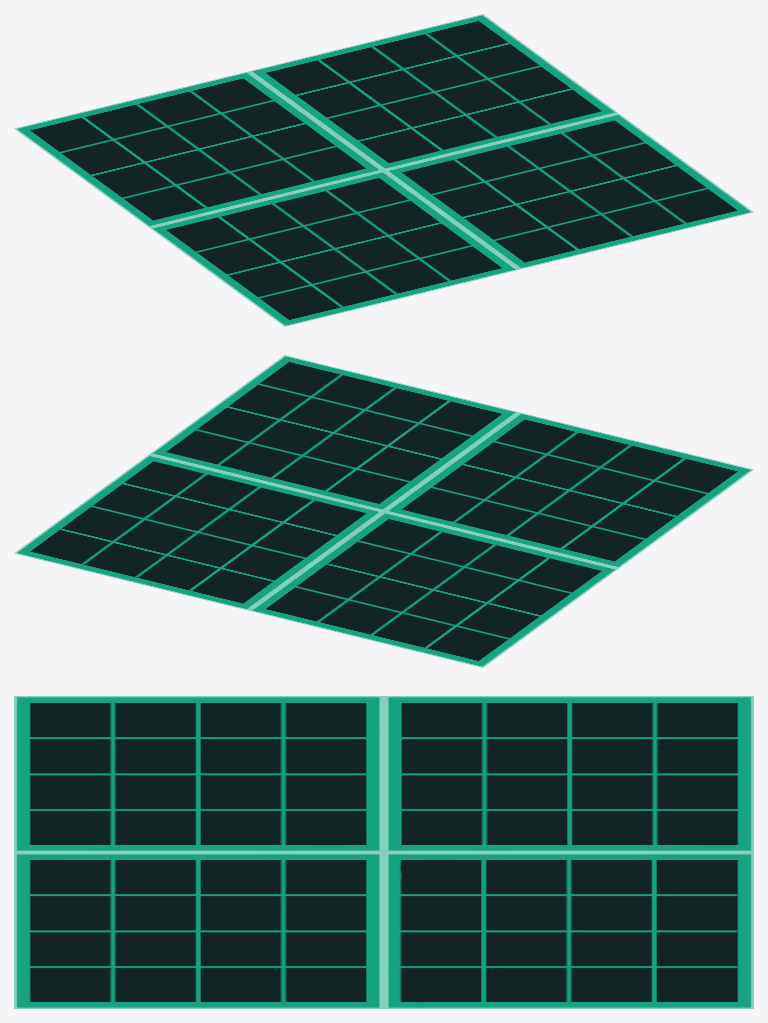
File: floor.obj
3 renders of one model, top to bottom at view 1: azimuth 30°, elevation 25°; view 2: azimuth 150°, elevation 25°; view 3: azimuth 270°, elevation 25°, orthographic. The views are drawn at different scales.
Visible parts, largest first — view 1: Plane; view 2: Plane; view 3: Plane.
Part boxes in pixels (x1,y1,x2,y2): Plane: (14, 14, 753, 326); Plane: (14, 355, 753, 667); Plane: (14, 696, 753, 1008).
Size of the model in its own units: 19.81 by 0 by 19.81.
1 material, 1 textured.
